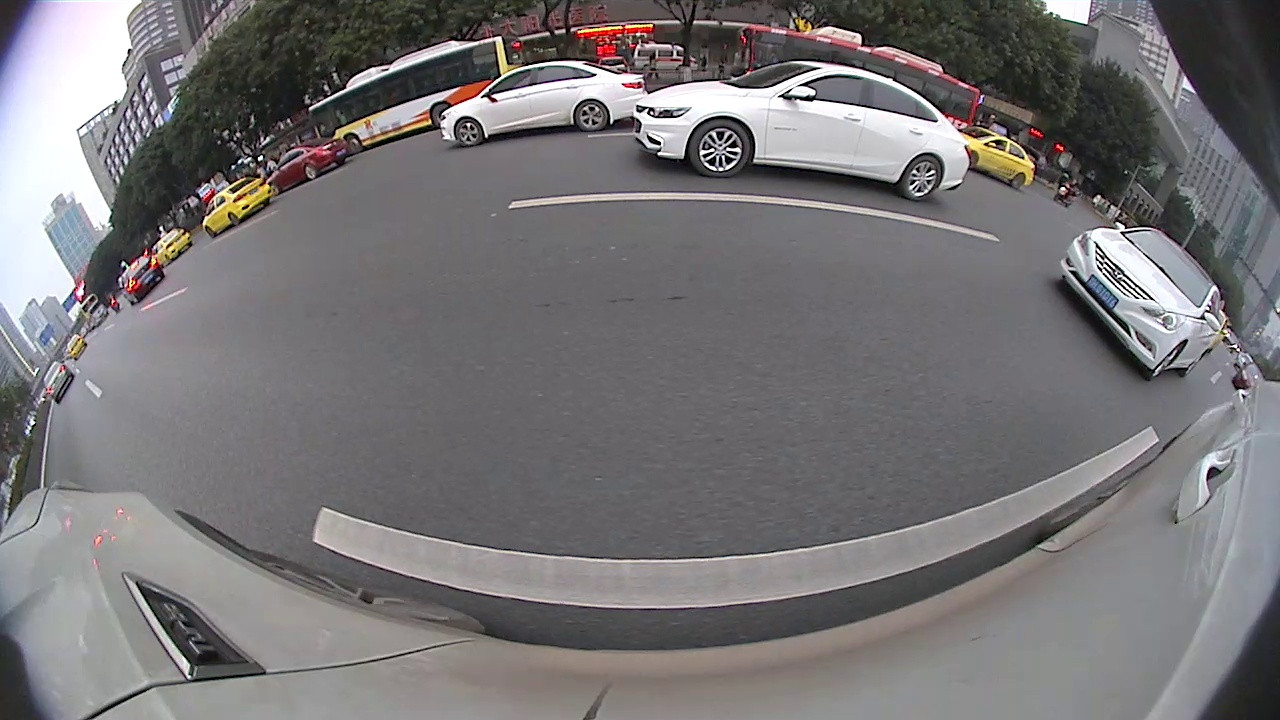bus: (306, 33, 530, 154), (731, 23, 981, 128)
car: (631, 60, 971, 202), (1059, 222, 1223, 381), (439, 62, 648, 148), (948, 127, 1036, 191), (202, 176, 274, 240), (274, 137, 350, 194), (119, 254, 166, 306), (151, 227, 192, 270), (42, 360, 75, 404)
front: (687, 120, 751, 175), (1144, 344, 1185, 378), (456, 120, 483, 145), (346, 133, 361, 155)
rear: (903, 156, 941, 198), (575, 100, 607, 132), (1183, 351, 1207, 376), (433, 104, 449, 125), (1012, 173, 1025, 188), (306, 164, 317, 180)
rider: (1051, 177, 1083, 209)
